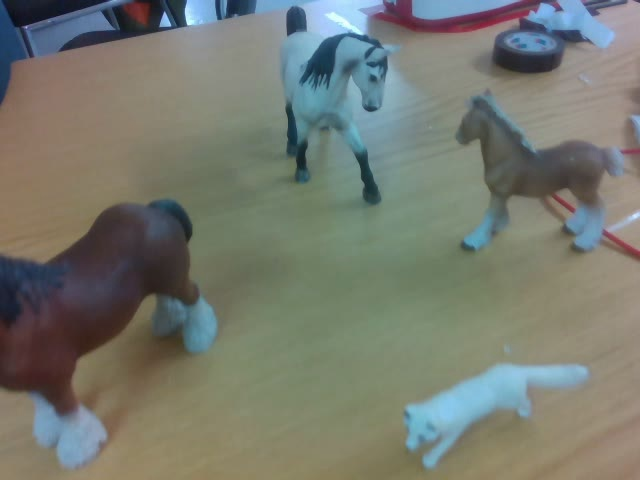toy: (454, 90, 634, 256), (280, 5, 404, 208), (400, 363, 590, 469)
